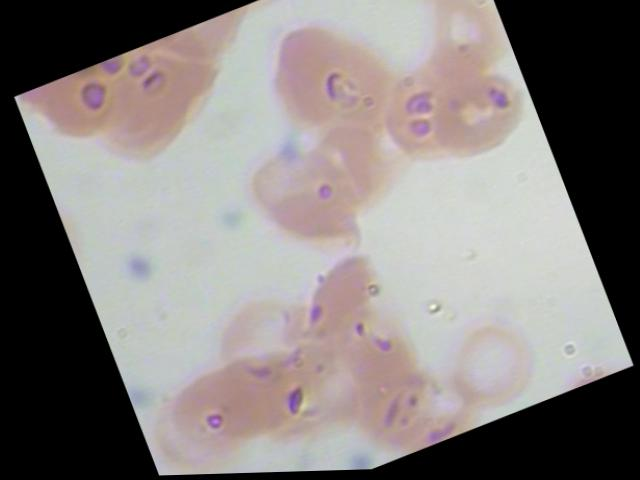Platelets: (110, 238, 165, 297)
Red Blood Cells: (232, 126, 371, 275), (249, 4, 388, 152), (71, 37, 204, 174), (149, 352, 278, 469), (429, 309, 552, 428), (417, 56, 537, 175), (14, 58, 131, 154), (407, 0, 517, 97), (146, 6, 263, 93), (67, 37, 174, 101), (548, 350, 632, 398), (386, 0, 488, 18)
White Blood Cells: (174, 439, 329, 475)
